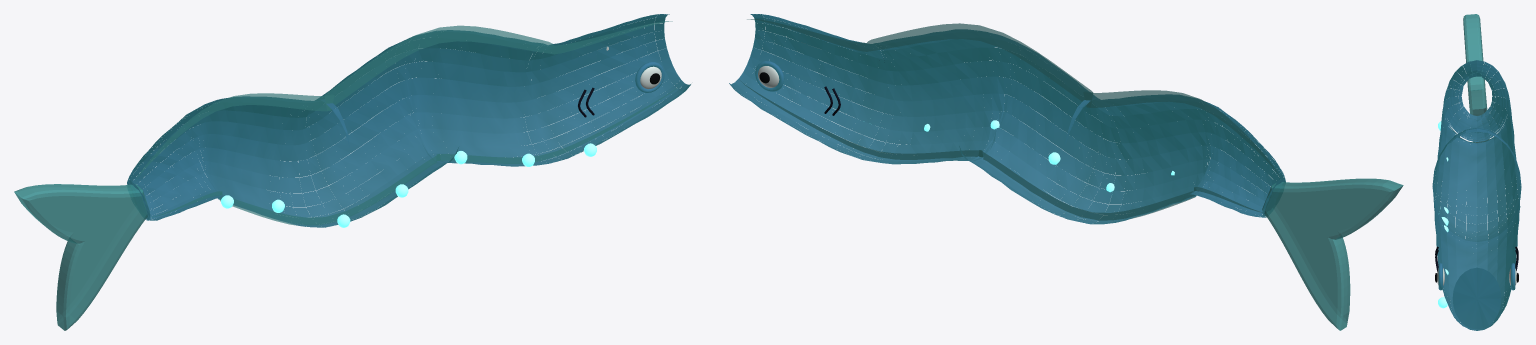
Rendered from abyss-eel.glb.
3 views of the same model, side by side, from view 1: azimuth 30°, elevation 25°; view 2: azimuth 150°, elevation 25°; view 3: azimuth 270°, elevation 25° (orthographic). The views are drawn at different scales.
Parts seen in each view (by area): view 1: body, tail_fin, dorsal_ribbon_fin, anal_ribbon_fin; view 2: body, tail_fin, dorsal_ribbon_fin, anal_ribbon_fin; view 3: body, tail_fin, eye_socket (×2), photophore.
Part boxes in pixels (x1=…): body: x1=127, y1=14, x2=690, y2=227; tail_fin: x1=14, y1=184, x2=149, y2=330; dorsal_ribbon_fin: x1=134, y1=21, x2=672, y2=183; anal_ribbon_fin: x1=150, y1=83, x2=682, y2=226; body: x1=729, y1=14, x2=1285, y2=224; tail_fin: x1=1262, y1=178, x2=1403, y2=330; dorsal_ribbon_fin: x1=747, y1=19, x2=1280, y2=178; anal_ribbon_fin: x1=739, y1=79, x2=1262, y2=221; body: x1=1432, y1=60, x2=1521, y2=330; tail_fin: x1=1463, y1=14, x2=1489, y2=142; eye_socket (×2): x1=1438, y1=263, x2=1515, y2=290; photophore: x1=1438, y1=297, x2=1447, y2=308.
Size of the model in its own units: 3.78 by 1.15 by 0.5271.
